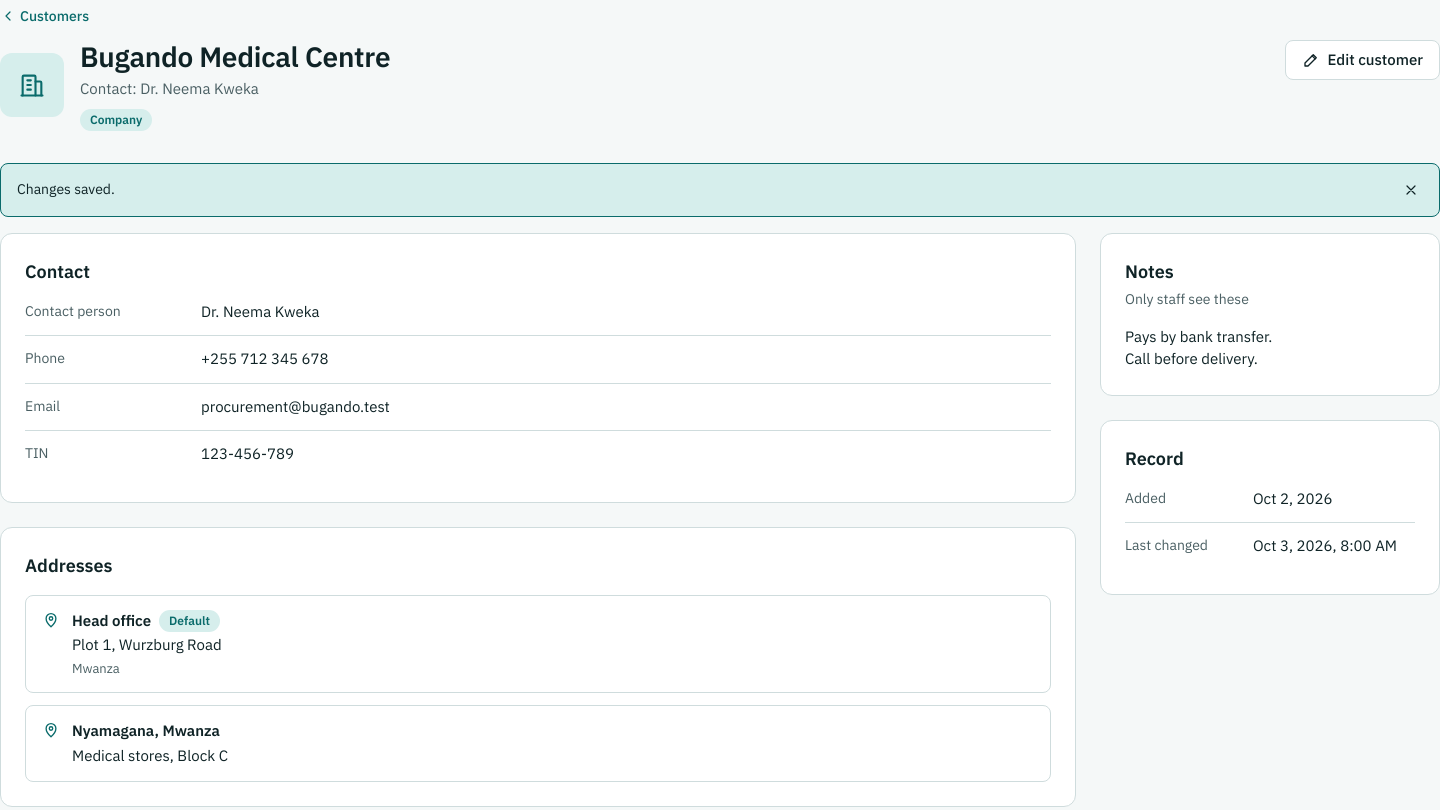
CustomerDetail › shows the notice from the edit form and lets it be dismissed
Expected: the message reads "Changes saved.", [17, 180, 115, 198]
Click the button named "Dismiss message".
click(1411, 190)  # box [1395, 174, 1427, 206]
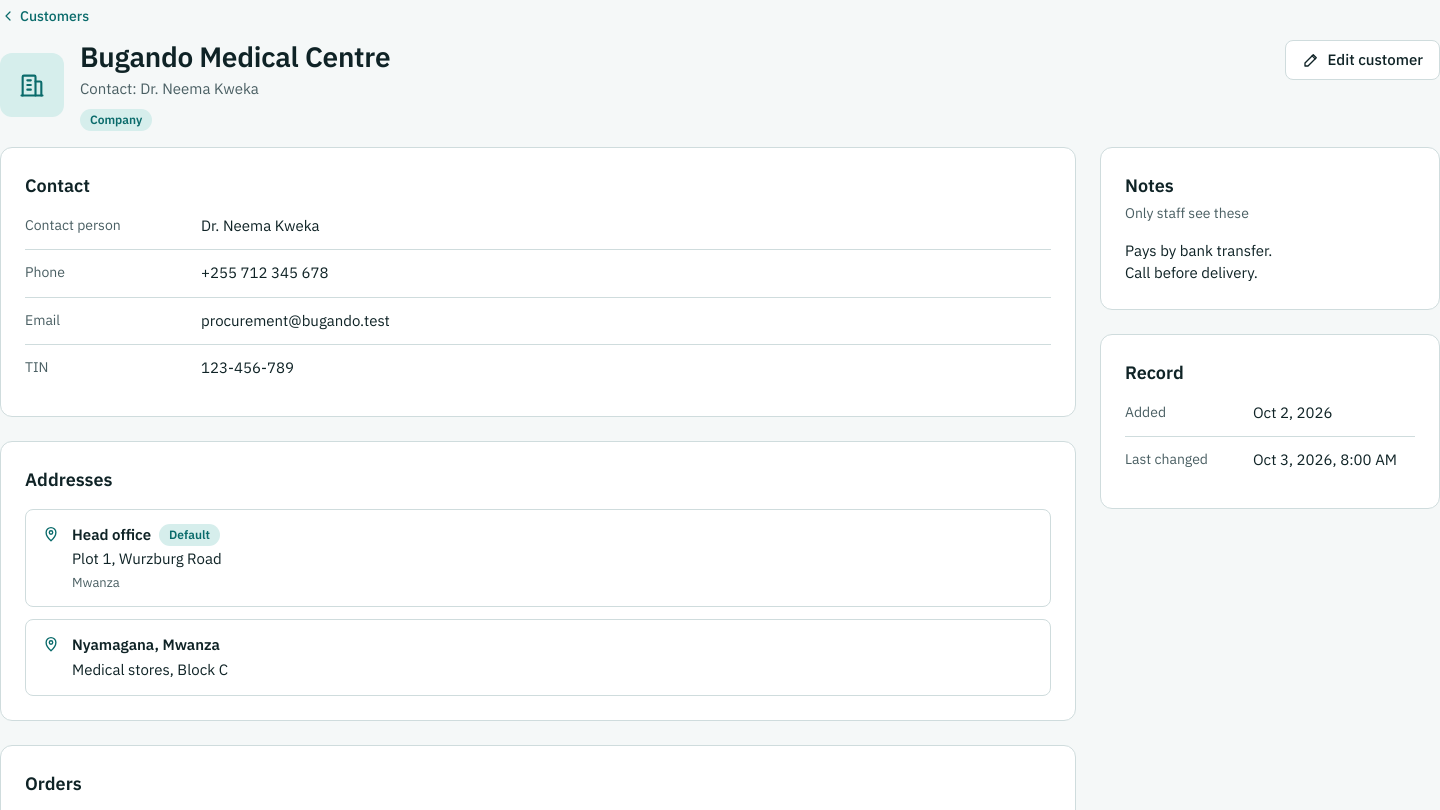
Expected: the text "Changes saved." is gone
